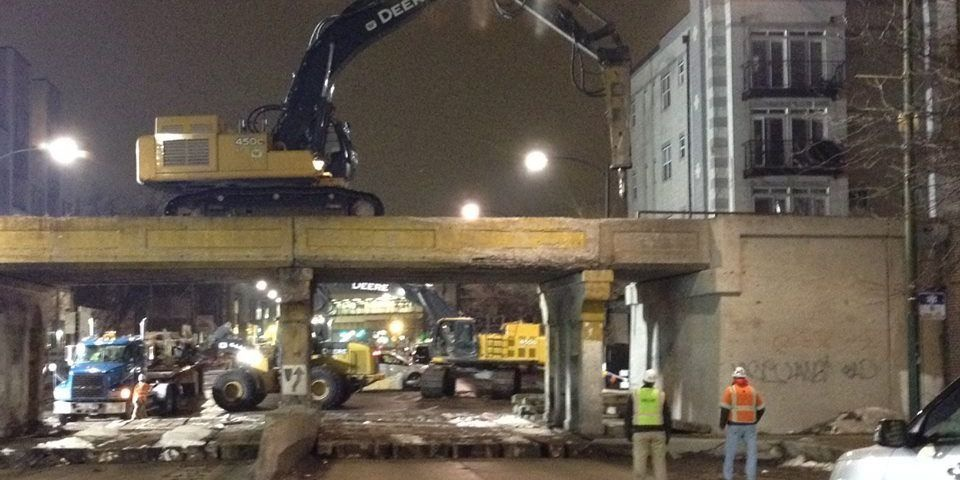white: (731, 365, 748, 383), (643, 367, 658, 387)
